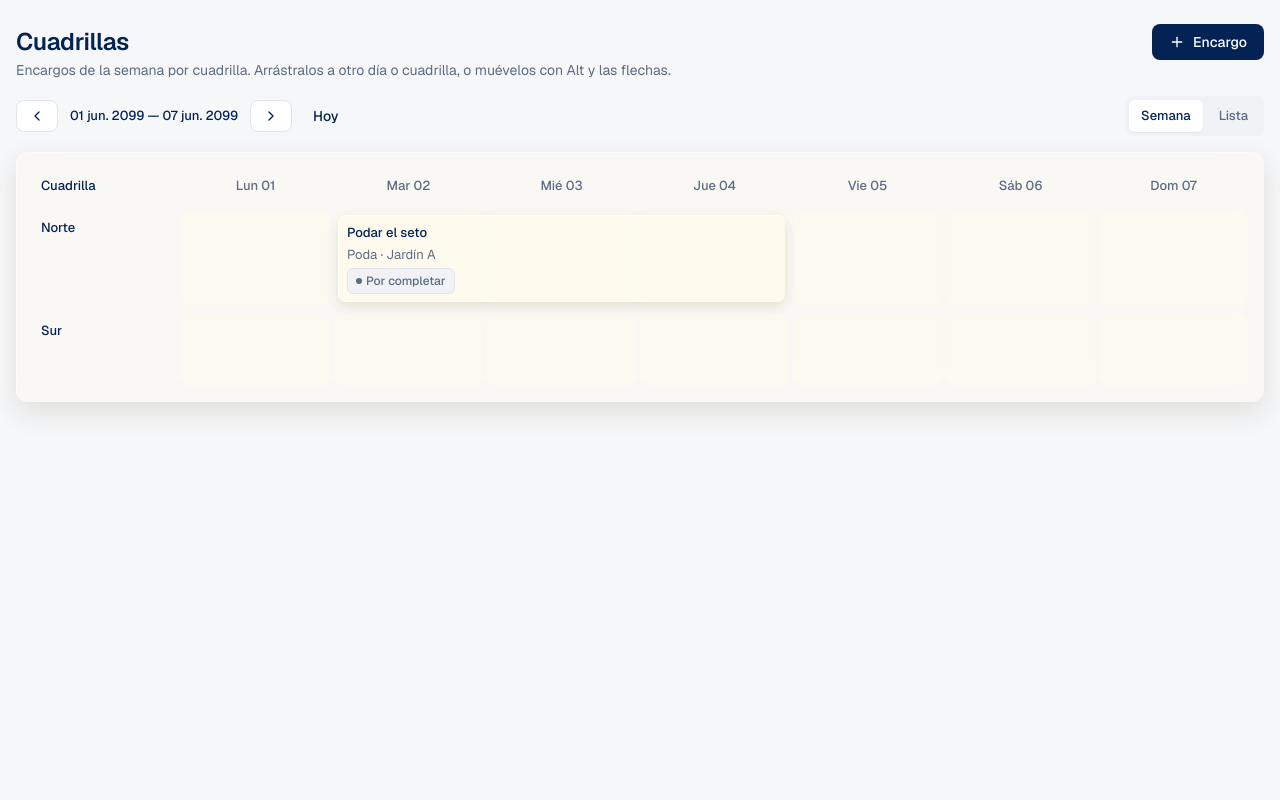
Test: CuadrillasPage › al arrastrar a otro día abre la reprogramación
Press the mouse on the element named "Encargo 5: Podar el seto" at point(562, 258), box 338,215 -> 785,302
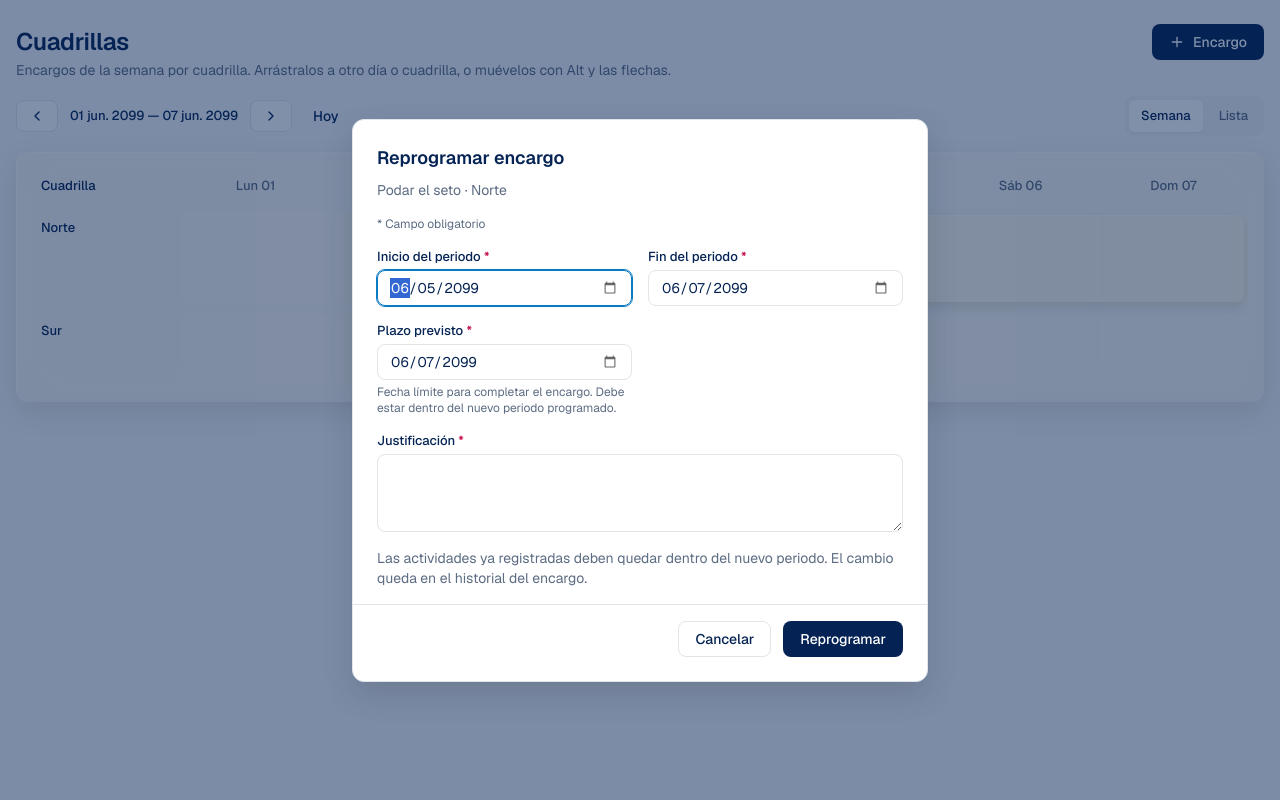
Expected: the date field labelled "Inicio del periodo *" holds "2099-06-05", 377,270 -> 632,306
